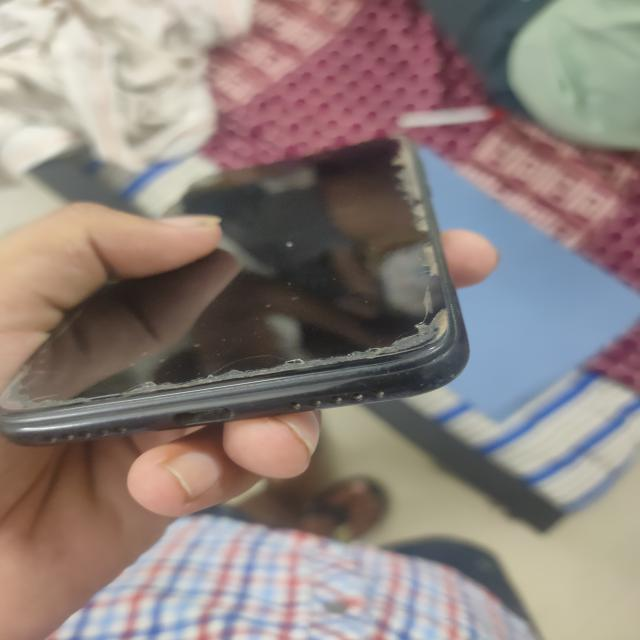Phone: (0, 132, 470, 444)
